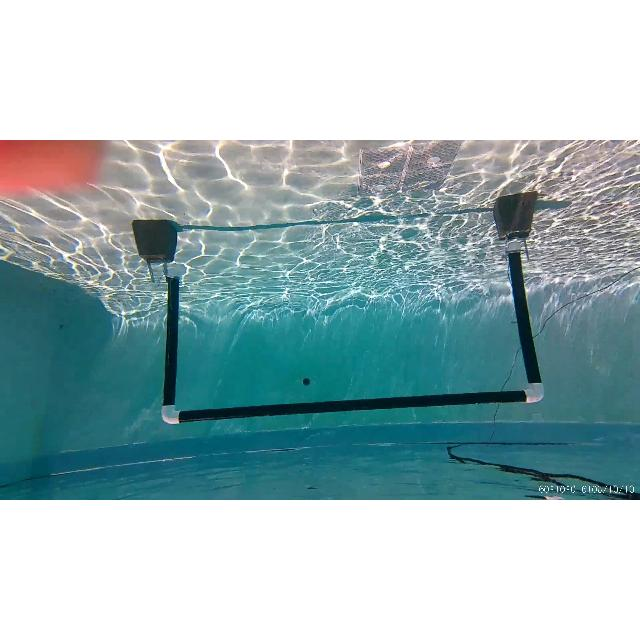prequal gate: (159, 240, 545, 426)
prequal gate leg l: (485, 232, 557, 408)
prequal gate leg r: (153, 248, 189, 428)
